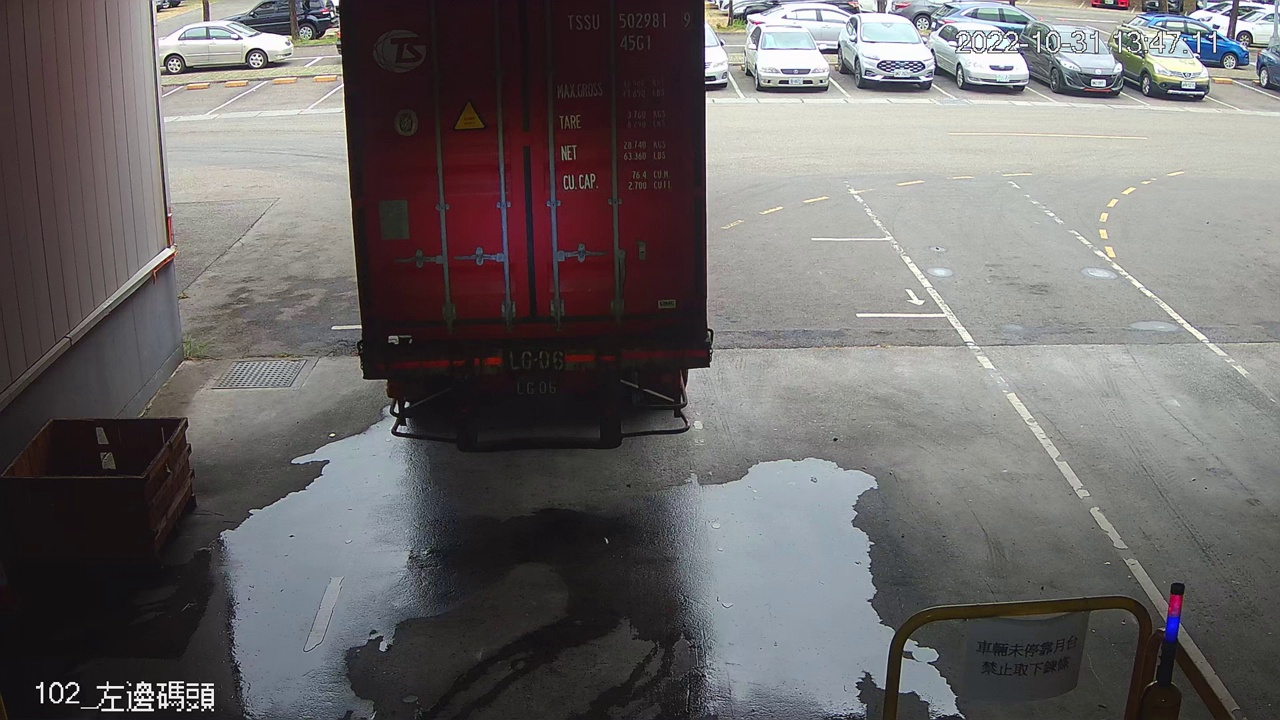container: (559, 5, 699, 58)
